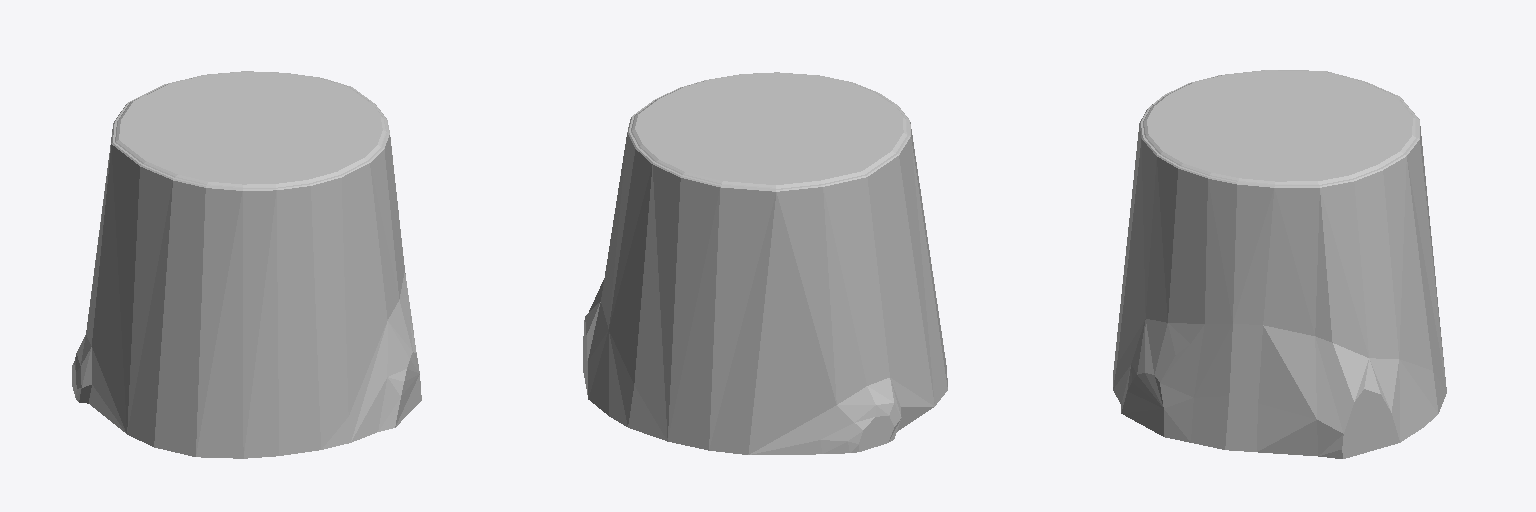
The model's file is PBR - Metallic Roughness.obj.
3 renders of one model, left to right at view 1: azimuth 30°, elevation 25°; view 2: azimuth 150°, elevation 25°; view 3: azimuth 270°, elevation 25°, orthographic.
Visible parts, largest first — view 1: Cylinder_Cylinder; view 2: Cylinder_Cylinder; view 3: Cylinder_Cylinder.
Boxes of the visible parts, box(x1,y1,x2,y2) form: Cylinder_Cylinder: box(72, 71, 421, 458); Cylinder_Cylinder: box(583, 72, 947, 454); Cylinder_Cylinder: box(1113, 70, 1446, 458).
Bounding box in the file's own units: 2.23 × 1.78 × 2.09.